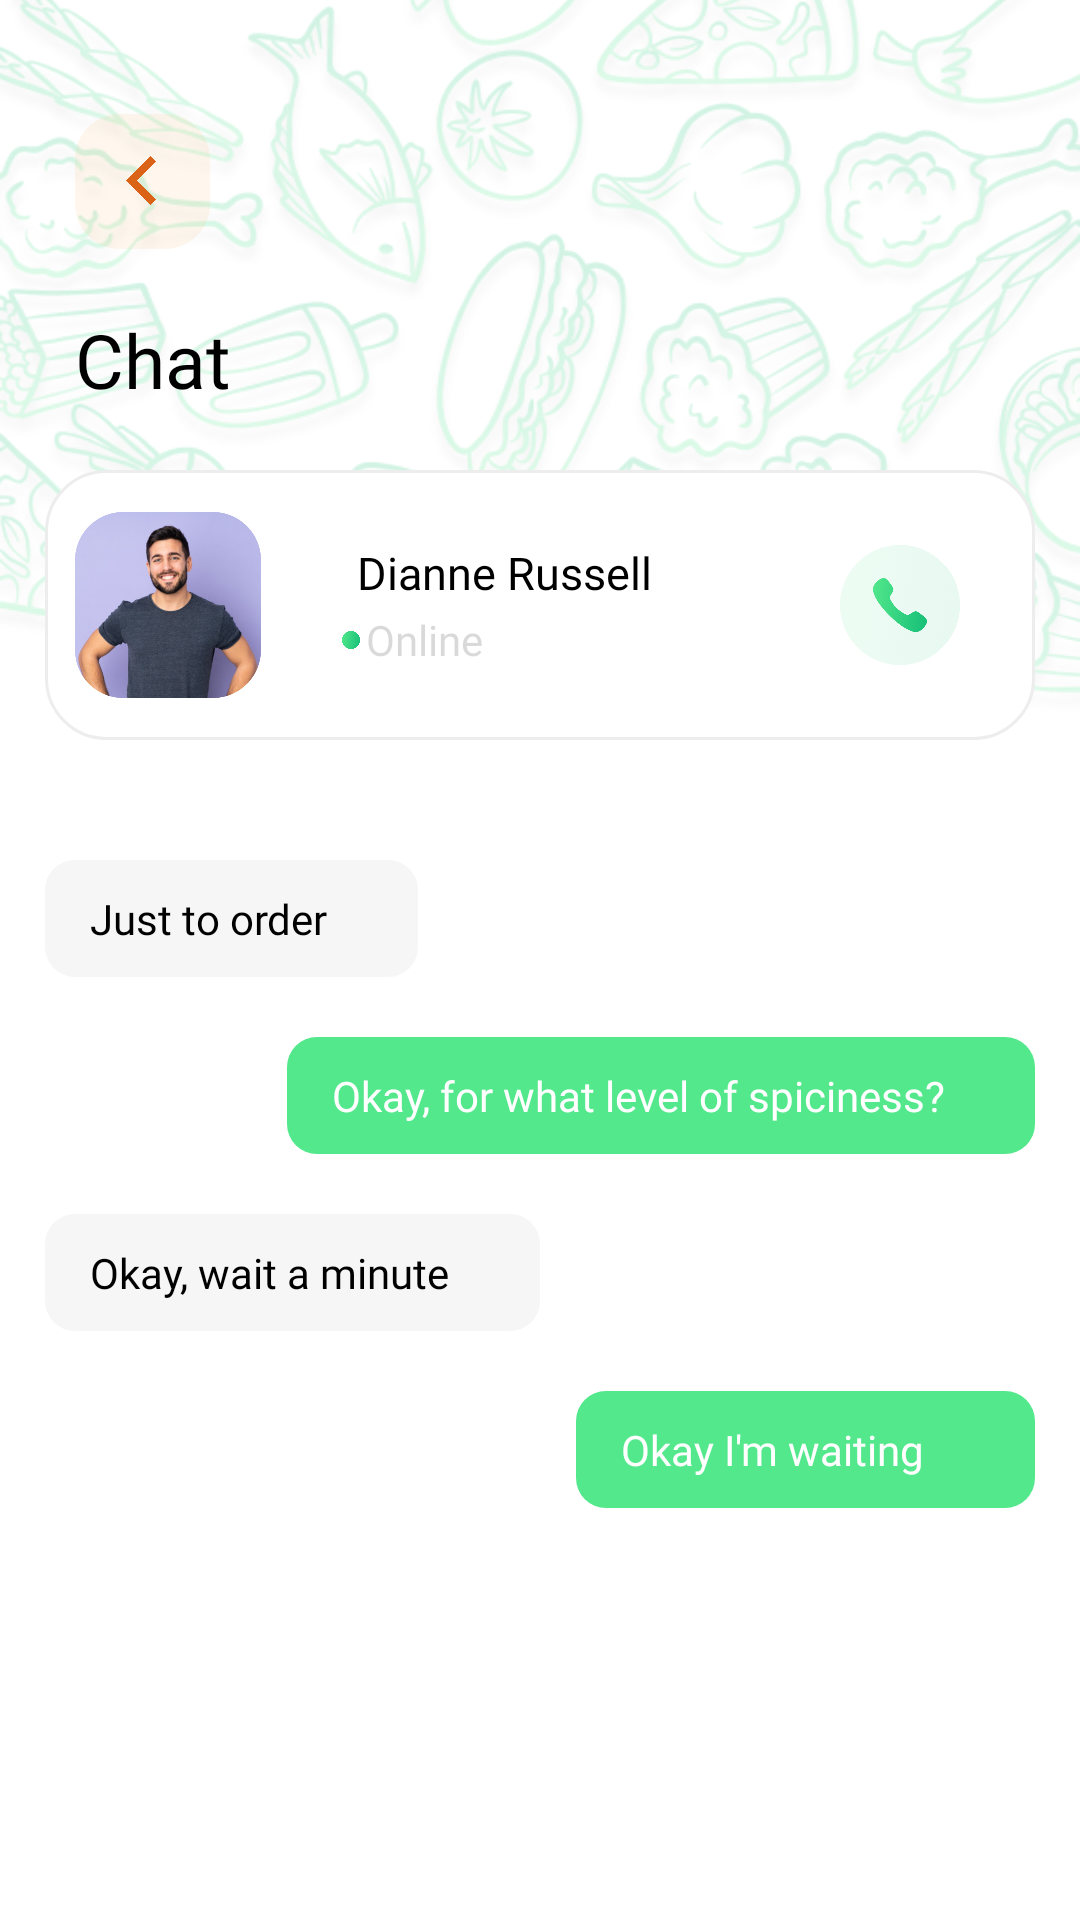

Where to tap for icons on this 1080w x 1920h app screen, as (x=x, y=y):
backicon: (x=142, y=181)
